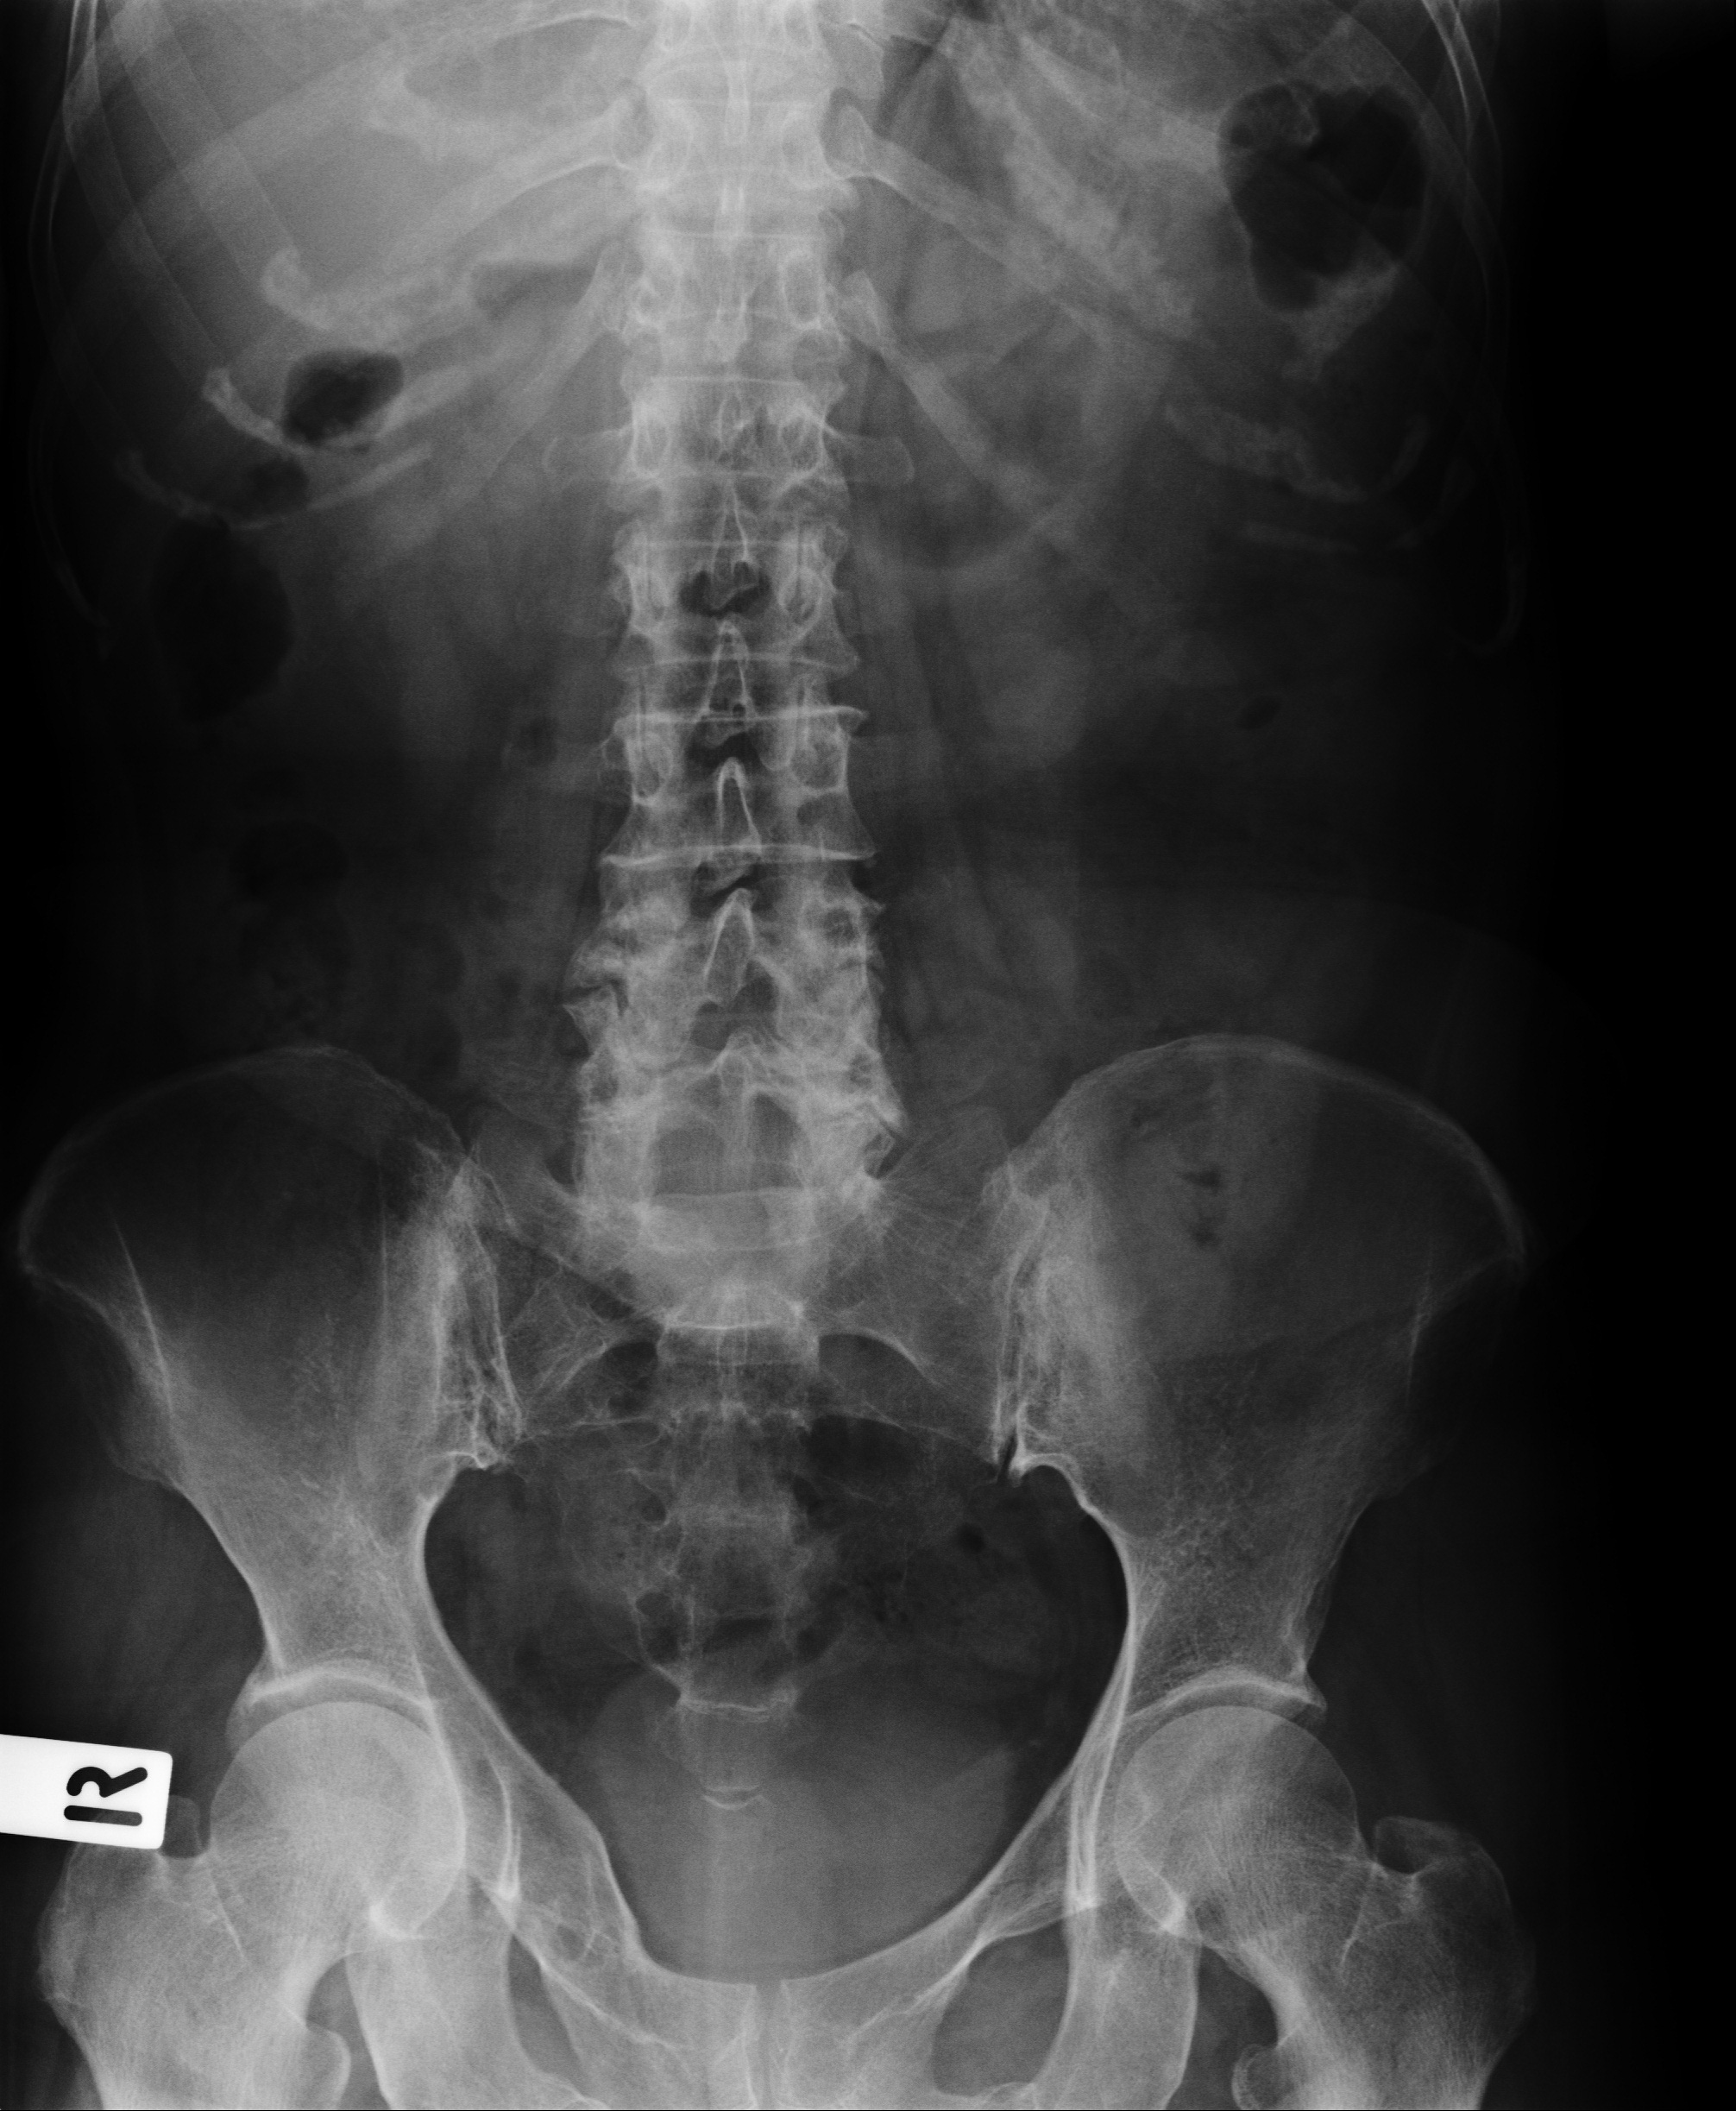lumbar scoliosis: (589, 4, 901, 1311)
